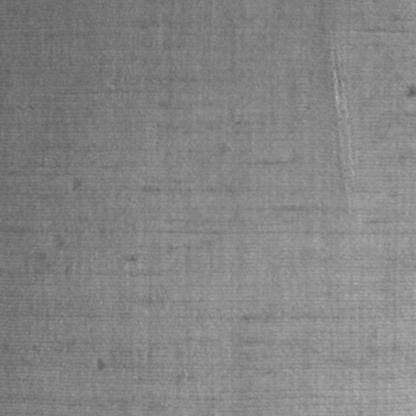thread error: (326, 26, 360, 220)
